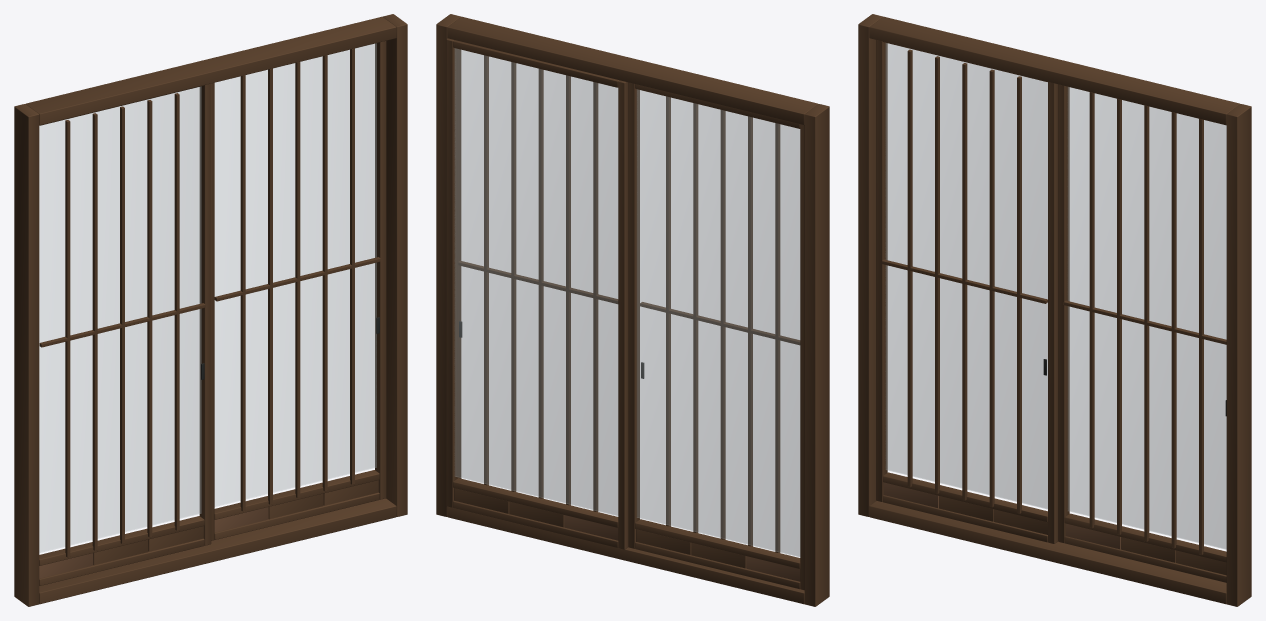
The model's file is kominka-entrance-door-01.glb.
3 views of the same model, side by side, from view 1: azimuth 30°, elevation 25°; view 2: azimuth 150°, elevation 25°; view 3: azimuth 330°, elevation 25° (orthographic).
Visible parts, largest first — view 1: kominka-entrance-door-01; view 2: kominka-entrance-door-01; view 3: kominka-entrance-door-01.
Boxes of the visible parts, x1=… form: kominka-entrance-door-01: x1=14, y1=14, x2=407, y2=606; kominka-entrance-door-01: x1=436, y1=14, x2=829, y2=606; kominka-entrance-door-01: x1=858, y1=14, x2=1251, y2=606.
Size of the model in its own units: 1.7 by 2.1 by 0.12.
